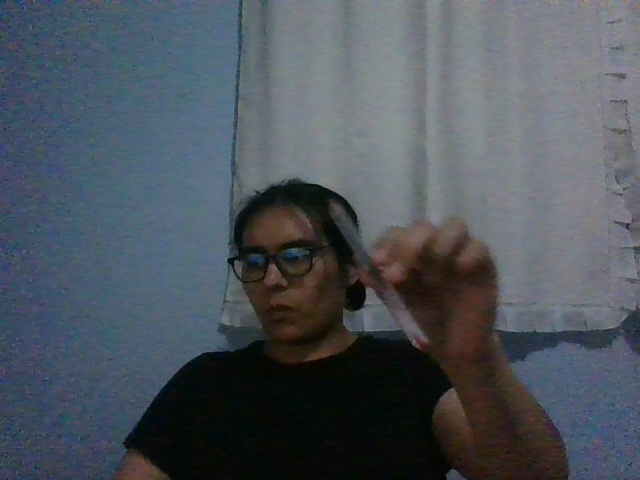pluma: (328, 199, 430, 353)
